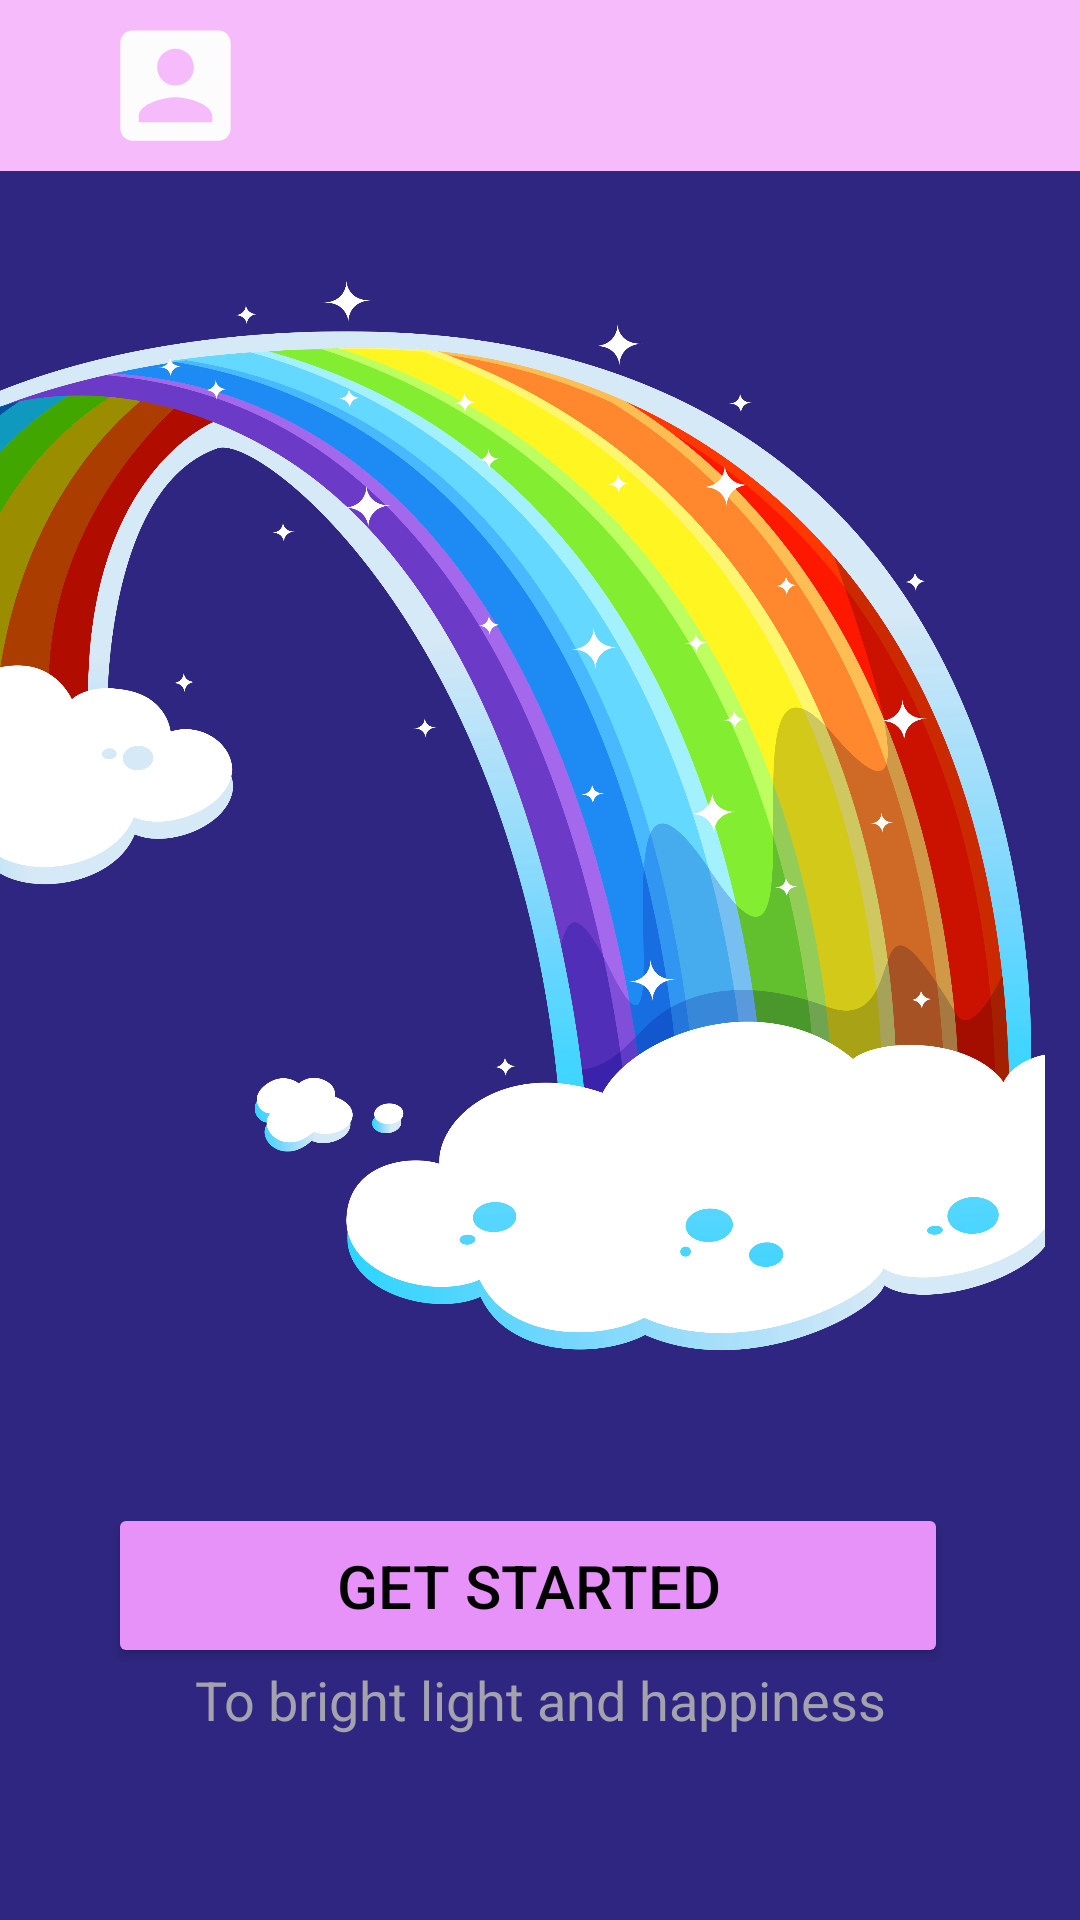

Icons on this 1080 × 1920 Android screen, each with its box as box=[x1, y1, x2, y2]:
account box: box=[120, 30, 231, 141]
